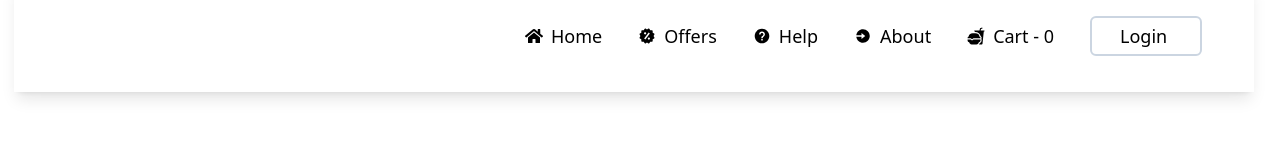
it: Should render the login button and change to logout on click
This screenshot has width=1269, height=160.
Simulate a click event on the login button
Click the button "Login": (1144, 36) top-left (1120, 22), bottom-right (1167, 50)
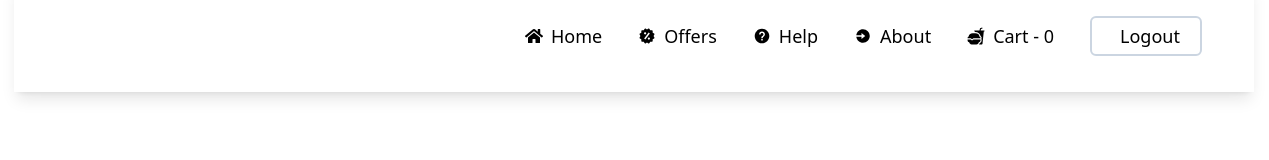
Now the button "Logout" is shown, box top-left (1120, 22), bottom-right (1180, 50)
